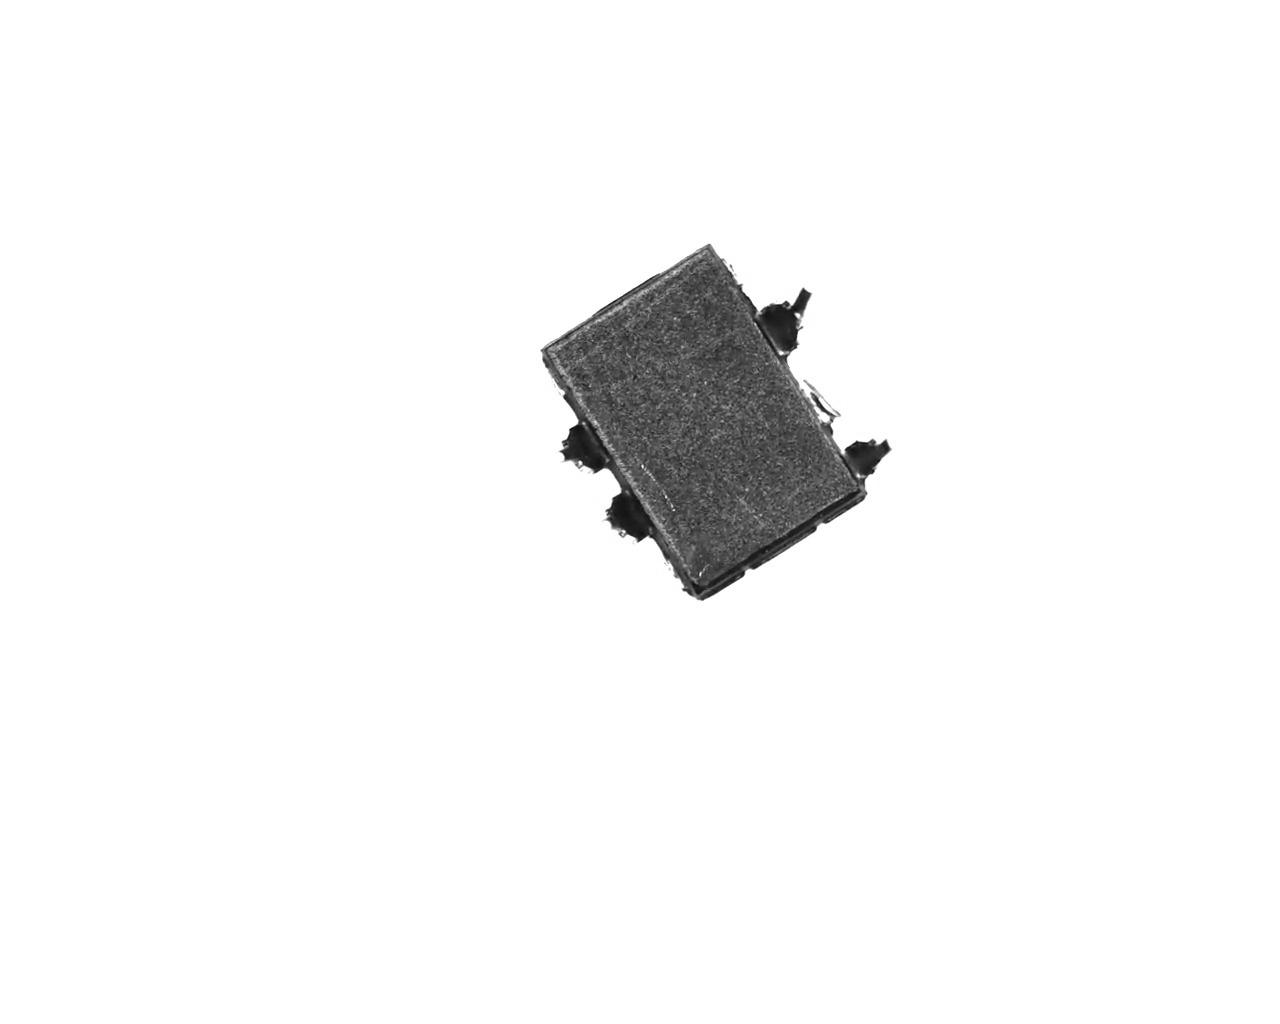brokenLeg: (749, 279, 813, 363), (554, 412, 614, 483), (836, 433, 893, 491), (594, 491, 654, 544)
missingLeg: (793, 376, 843, 428), (649, 549, 695, 600), (539, 349, 576, 404), (711, 248, 746, 293)
